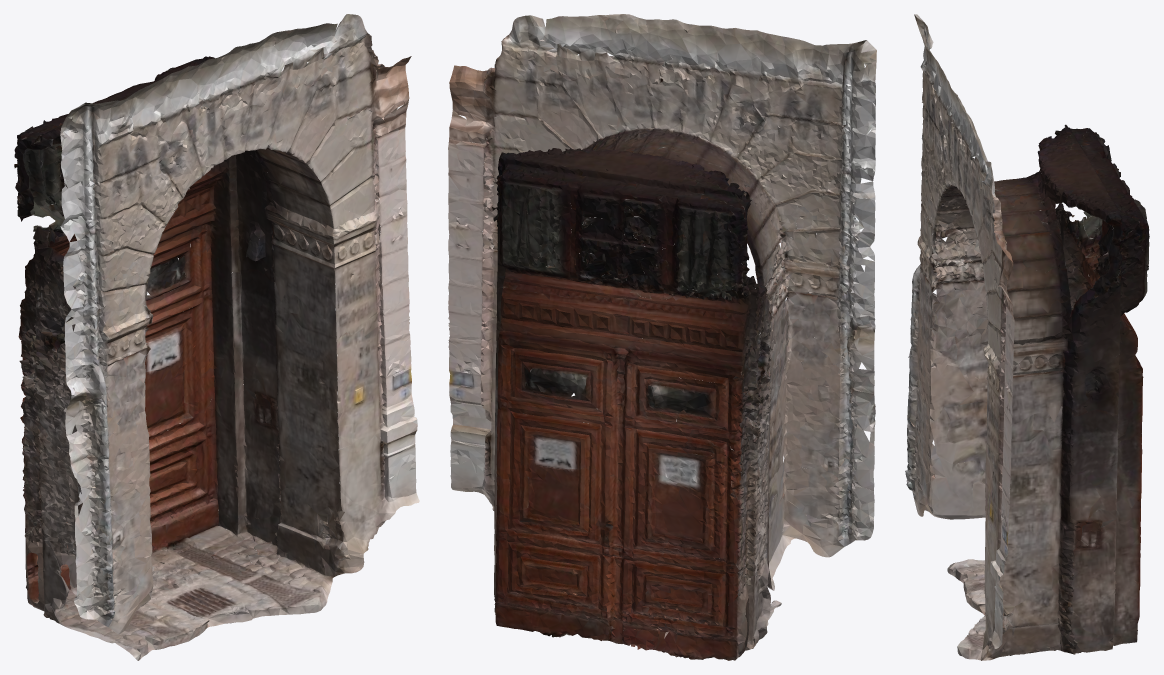
The picture shows the model from 3 angles, left to right: view 1: azimuth 30°, elevation 25°; view 2: azimuth 150°, elevation 25°; view 3: azimuth 270°, elevation 25°; orthographic projection. The views are drawn at different scales.
Parts seen in each view (by area): view 1: 512.25k; view 2: 512.25k; view 3: 512.25k.
Part boxes in pixels (left/top/right/bottom): 512.25k: left=14, top=14, right=419, bottom=660; 512.25k: left=448, top=14, right=876, bottom=660; 512.25k: left=905, top=14, right=1149, bottom=660.
Size of the model in its own units: 5.35 by 7.63 by 3.18.
Materials: 1 (1 with a texture image).
